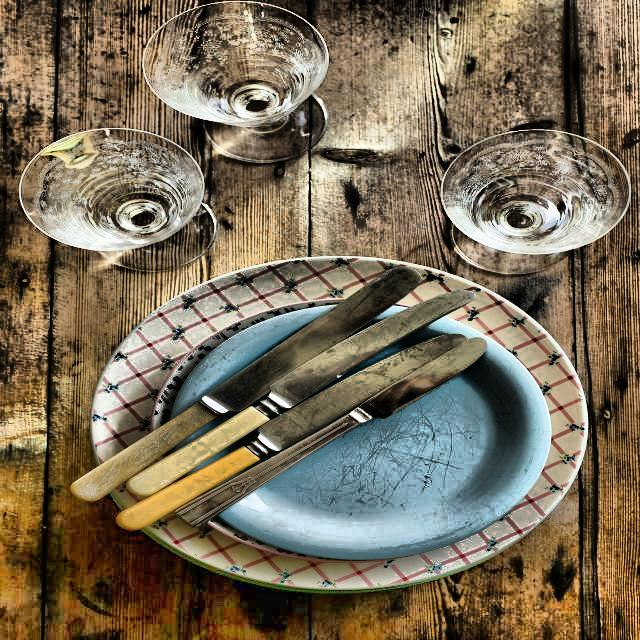knife: (125, 287, 478, 496), (116, 335, 467, 531)
